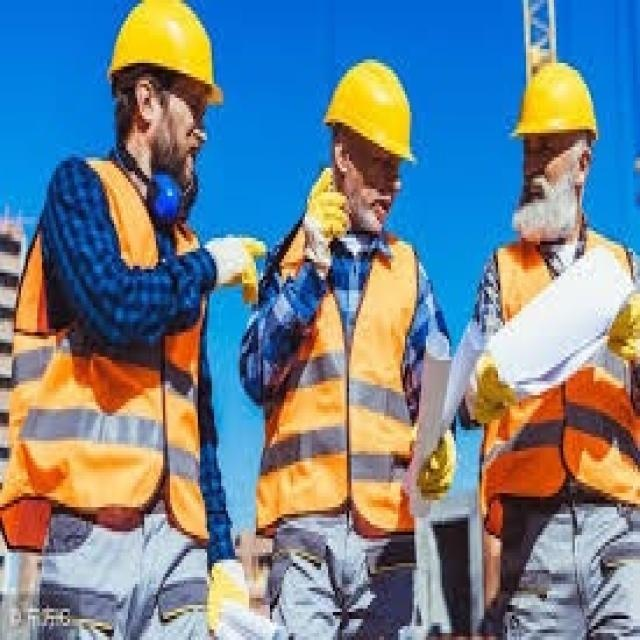Con_Chaleco: (16, 158, 217, 546), (262, 225, 426, 531), (497, 232, 640, 507)
